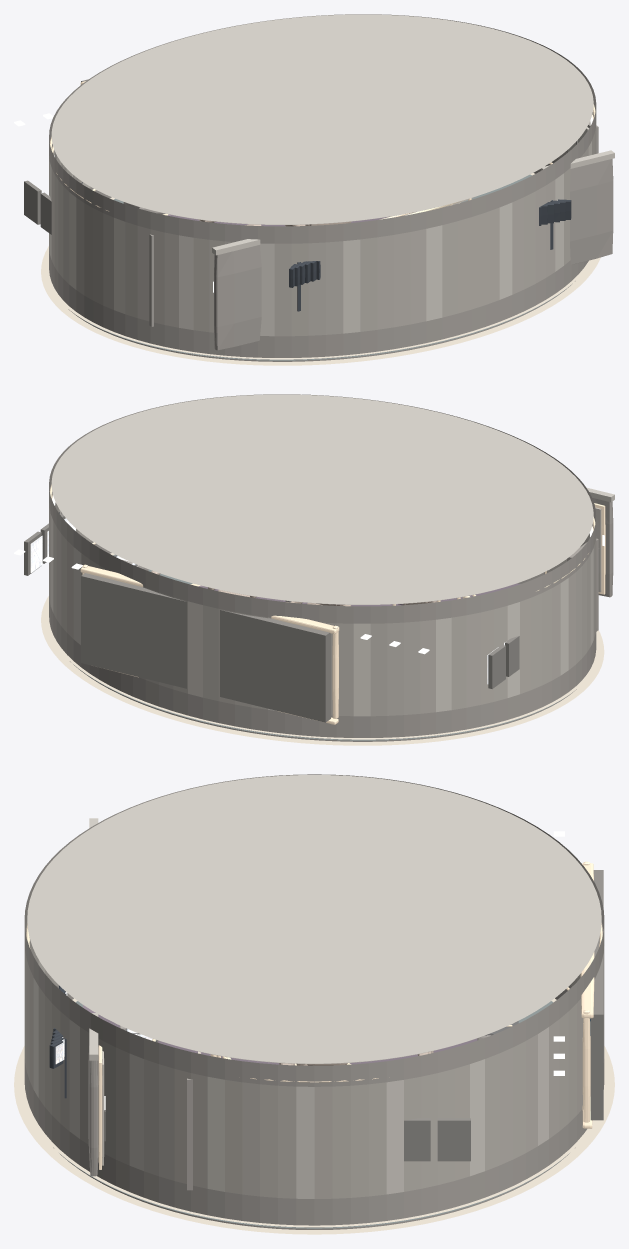
Rendered from bridge_reference_model.glb.
The picture shows the model from 3 angles, top to bottom: view 1: azimuth 30°, elevation 25°; view 2: azimuth 150°, elevation 25°; view 3: azimuth 270°, elevation 25°; orthographic projection. The views are drawn at different scales.
Parts seen in each view (by area): view 1: wallLight, wall, wallInner, floorTrim, black, frame, walkway; view 2: wallLight, wallInner, wall, frame, floorTrim, bronze, walkway, texturedLCARS; view 3: wallLight, wall, wallInner, floorTrim, frame, bronze, walkway, carpet.
Part boxes in pixels (left/top/right/bottom): wallLight: left=49, top=14, right=614, bottom=336; wall: left=49, top=112, right=596, bottom=336; wallInner: left=49, top=14, right=613, bottom=361; floorTrim: left=41, top=173, right=600, bottom=365; black: left=81, top=182, right=571, bottom=311; frame: left=24, top=79, right=577, bottom=234; walkway: left=74, top=174, right=572, bottom=360; wallLight: left=50, top=394, right=614, bottom=716; wallInner: left=49, top=394, right=613, bottom=741; wall: left=49, top=503, right=596, bottom=716; frame: left=24, top=503, right=599, bottom=722; floorTrim: left=41, top=553, right=604, bottom=745; bronze: left=49, top=484, right=605, bottom=724; walkway: left=73, top=554, right=569, bottom=740; texturedLCARS: left=30, top=518, right=505, bottom=684; wallLight: left=27, top=775, right=604, bottom=1198; wall: left=24, top=922, right=603, bottom=1198; wallInner: left=24, top=774, right=604, bottom=1229; floorTrim: left=14, top=998, right=614, bottom=1234; frame: left=104, top=870, right=603, bottom=1161; bronze: left=26, top=861, right=602, bottom=1169; walkway: left=59, top=1001, right=569, bottom=1228; carpet: left=98, top=1014, right=477, bottom=1064.
Size of the model in its own units: 15.52 by 4 by 13.16.
Materials: 30 (3 with a texture image).
